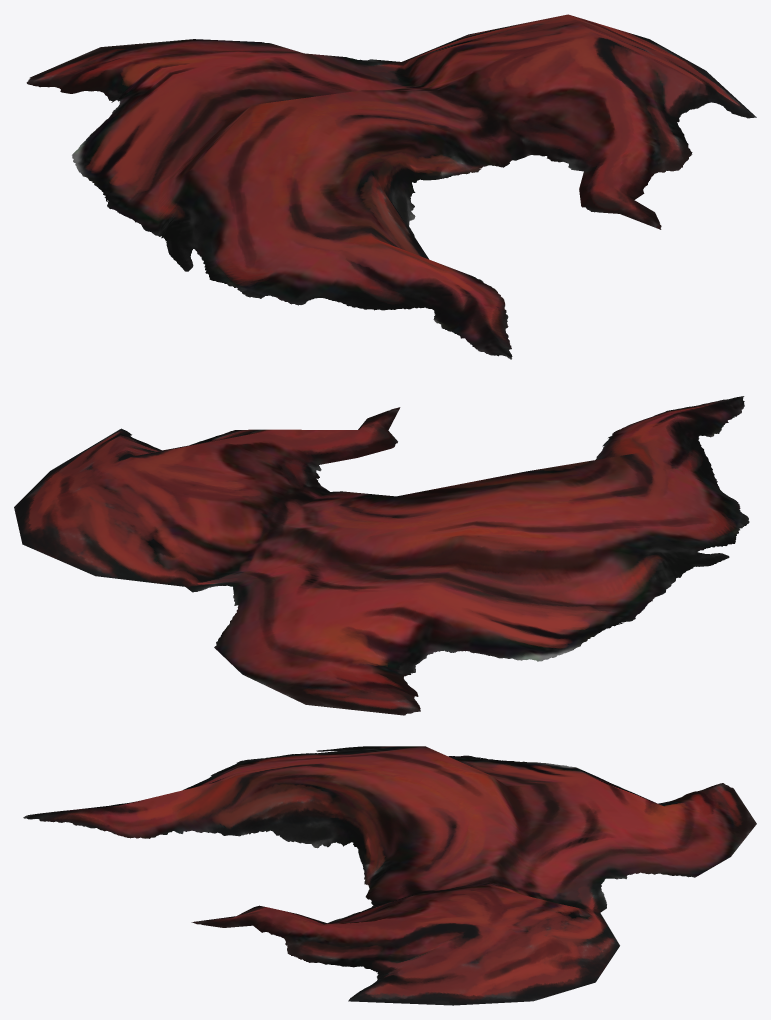
Rendered from GAM_Cloak.FBX.
3 renders of one model, top to bottom at view 1: azimuth 30°, elevation 25°; view 2: azimuth 150°, elevation 25°; view 3: azimuth 270°, elevation 25°, orthographic. The views are drawn at different scales.
Visible parts, largest first — view 1: GAM_Cloak; view 2: GAM_Cloak; view 3: GAM_Cloak.
Part boxes in pixels (x1,y1,x2,y2): GAM_Cloak: (26, 14, 756, 359); GAM_Cloak: (14, 396, 749, 715); GAM_Cloak: (23, 746, 756, 1005).
Size of the model in its own units: 110 by 9.45 by 133.
